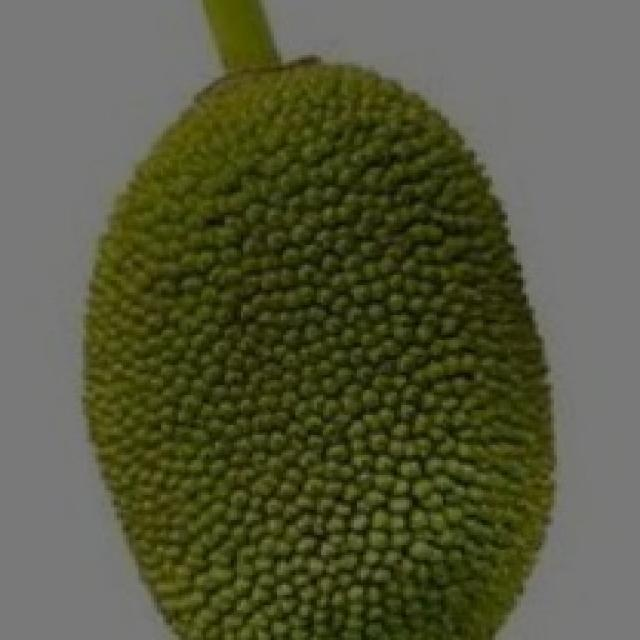fruit: (111, 10, 631, 438)
